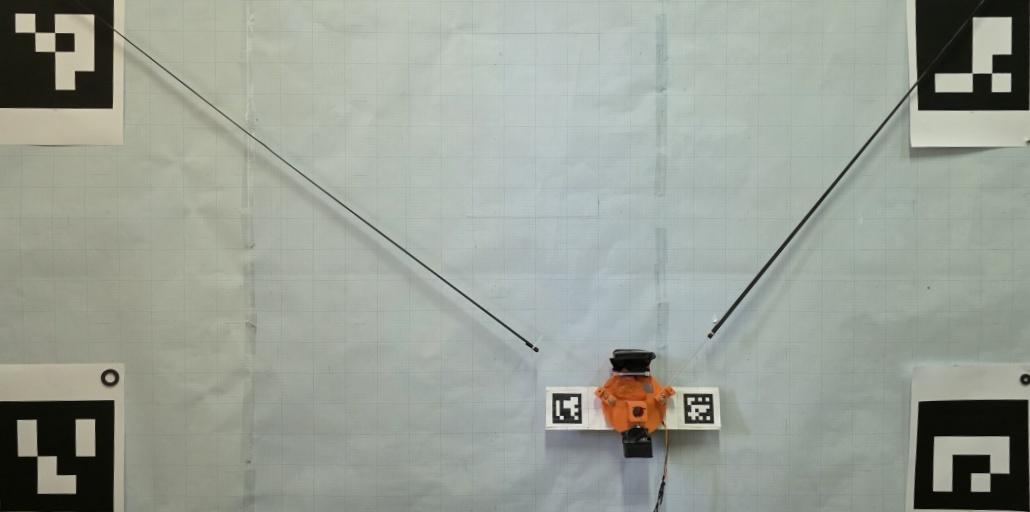robot: (594, 350, 675, 458)
